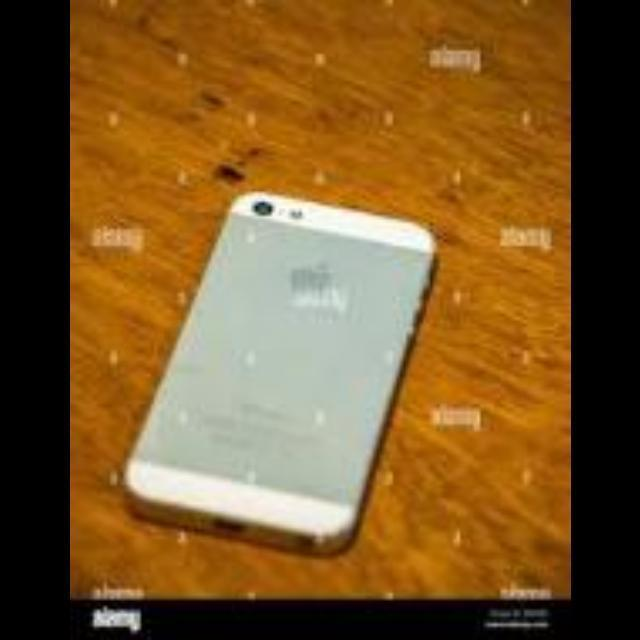phone: (120, 184, 443, 580)
